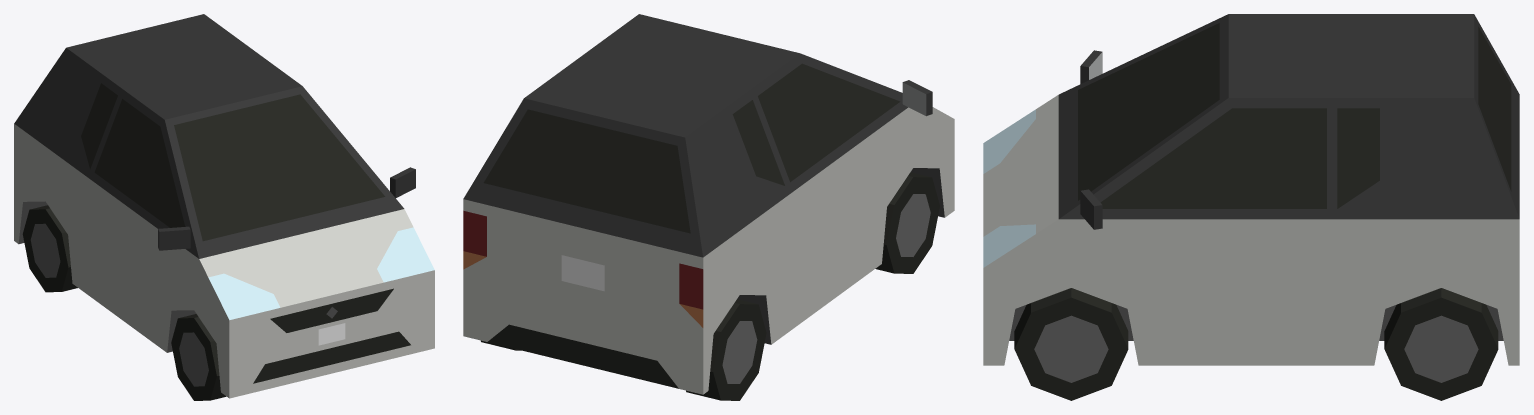
Rendered from Veh_Microcar_White.obj.
3 renders of one model, left to right at view 1: azimuth 30°, elevation 25°; view 2: azimuth 150°, elevation 25°; view 3: azimuth 270°, elevation 25°, orthographic. The views are drawn at different scales.
Size of the model in its own units: 0.9194 by 0.7766 by 1.34.
